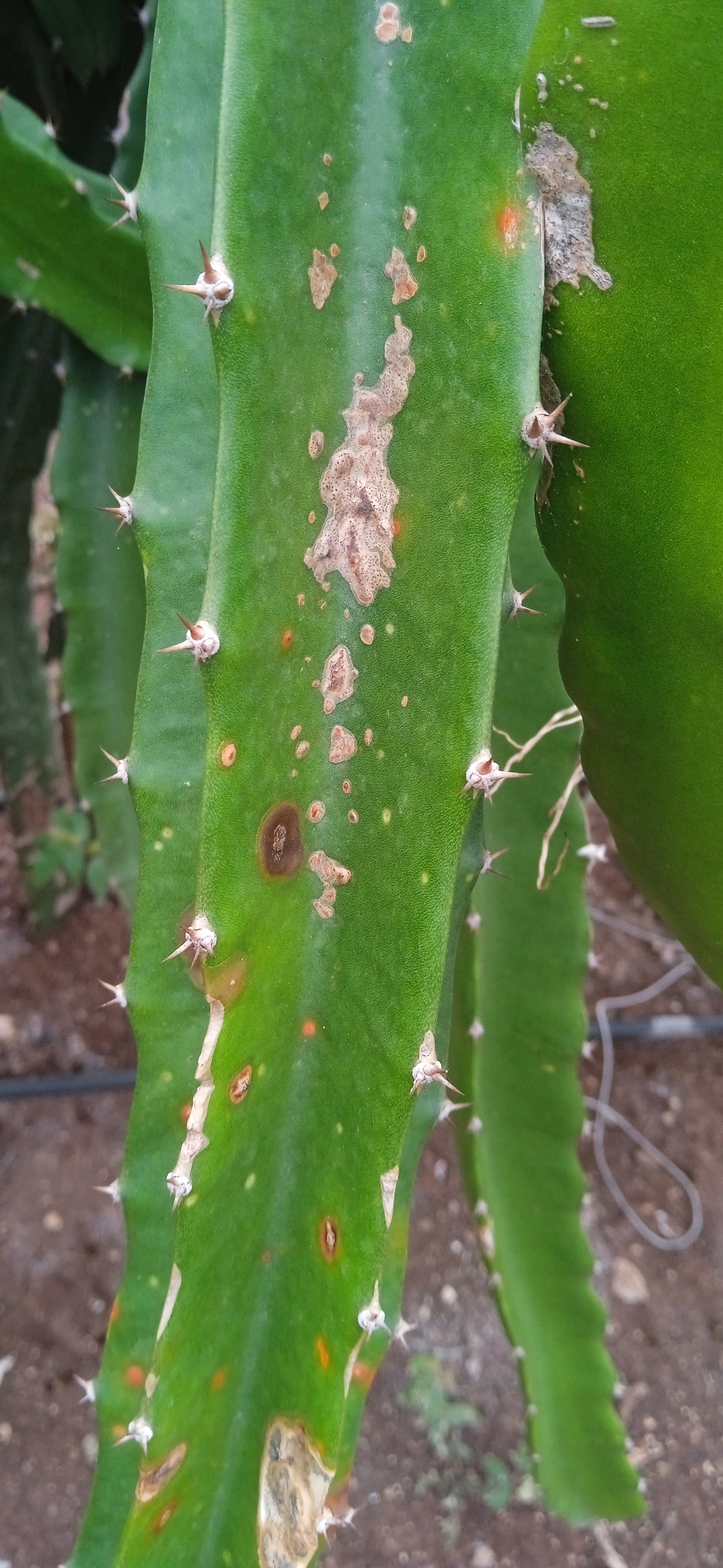stemcanker: (66, 2, 563, 1568)
